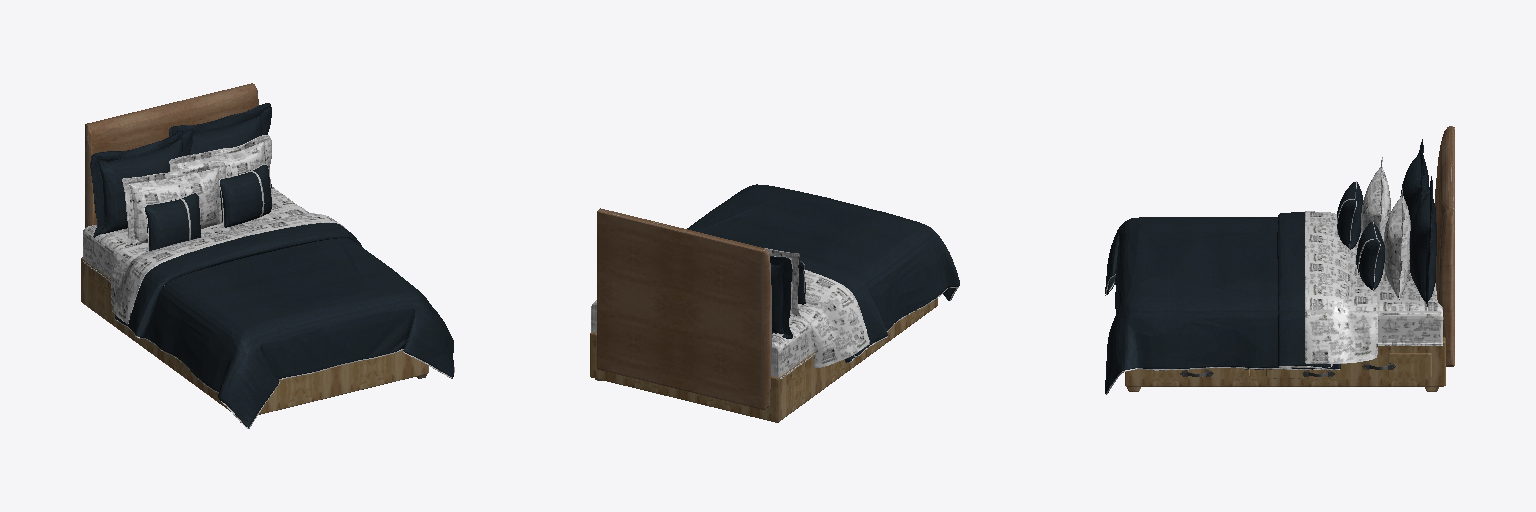
The picture shows the model from 3 angles: view 1: azimuth 30°, elevation 25°; view 2: azimuth 150°, elevation 25°; view 3: azimuth 270°, elevation 25°; orthographic projection.
Parts seen in each view (by area): view 1: solid_007, solid_004, solid_005, solid_001, solid_003; view 2: solid_003, solid_007, solid_004, solid_001, solid_005; view 3: solid_007, solid_004, solid_001, solid_003, solid_005.
Boxes of the visible parts, <box> form: solid_007: <box>115,165,453,427</box>; solid_004: <box>83,135,454,428</box>; solid_005: <box>90,103,271,237</box>; solid_001: <box>81,257,428,414</box>; solid_003: <box>85,83,258,227</box>; solid_003: <box>597,208,771,409</box>; solid_007: <box>687,184,959,362</box>; solid_004: <box>591,248,958,378</box>; solid_001: <box>590,298,937,422</box>; solid_005: <box>770,256,792,338</box>; solid_007: <box>1105,182,1384,393</box>; solid_004: <box>1105,157,1442,394</box>; solid_001: <box>1125,317,1445,391</box>; solid_003: <box>1435,126,1454,366</box>; solid_005: <box>1400,139,1436,306</box>.
Bounding box in the file's own units: 1.49 × 1.06 × 1.88.
Materials: 1 (1 with a texture image).